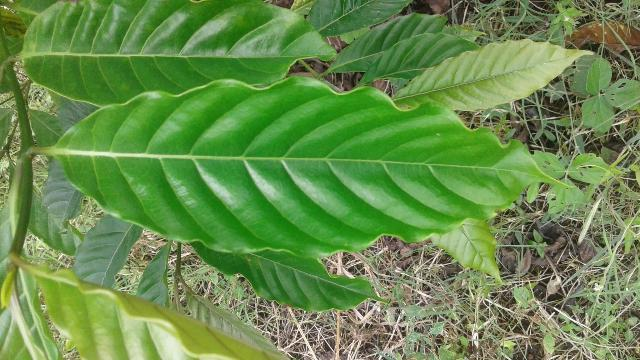healthy: (53, 72, 579, 263)
